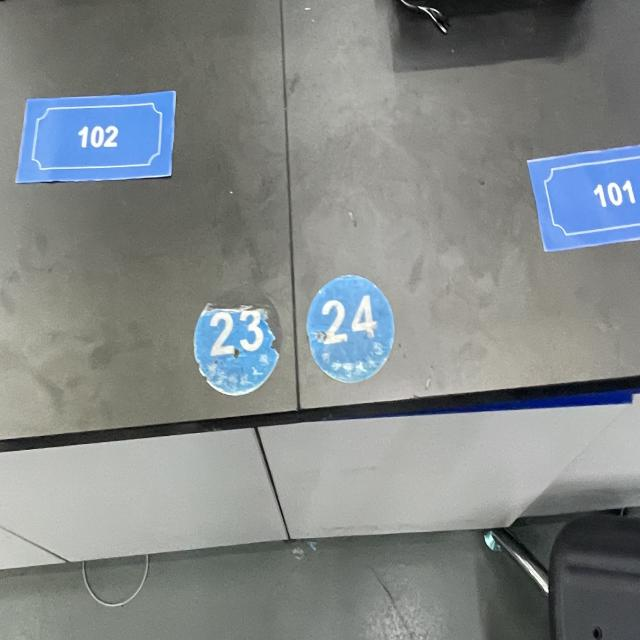Card: (6, 68, 188, 208), (518, 123, 640, 267)
